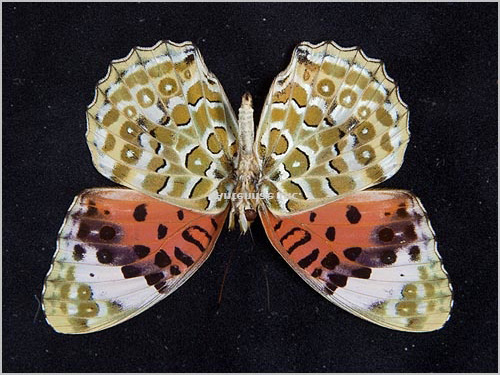Argyreus hyperbius: (32, 34, 457, 340)
moth: (30, 32, 455, 338)
